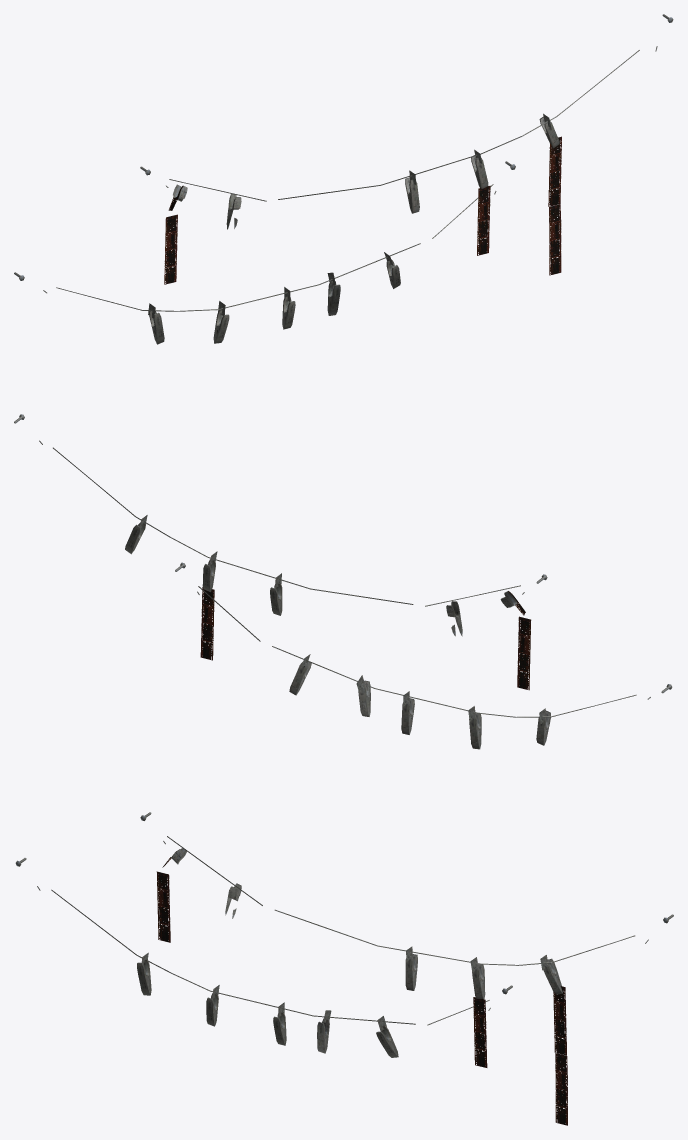
File: 026_Picturehanger.fbx
3 renders of one model, top to bottom at view 1: azimuth 30°, elevation 25°; view 2: azimuth 150°, elevation 25°; view 3: azimuth 330°, elevation 25°, orthographic.
Visible parts, largest first — view 1: LOD_1_Group_0_Sub_1__sm36_026_PictureHanger01A_A_Mat; view 2: LOD_1_Group_0_Sub_1__sm36_026_PictureHanger01A_A_Mat; view 3: LOD_1_Group_0_Sub_1__sm36_026_PictureHanger01A_A_Mat.
Part boxes in pixels (bbox=[...]): LOD_1_Group_0_Sub_1__sm36_026_PictureHanger01A_A_Mat: bbox=[14, 14, 673, 344]; LOD_1_Group_0_Sub_1__sm36_026_PictureHanger01A_A_Mat: bbox=[14, 414, 672, 749]; LOD_1_Group_0_Sub_1__sm36_026_PictureHanger01A_A_Mat: bbox=[15, 812, 673, 1125].
Size of the model in its own units: 1.82 by 0.69 by 0.0829.
